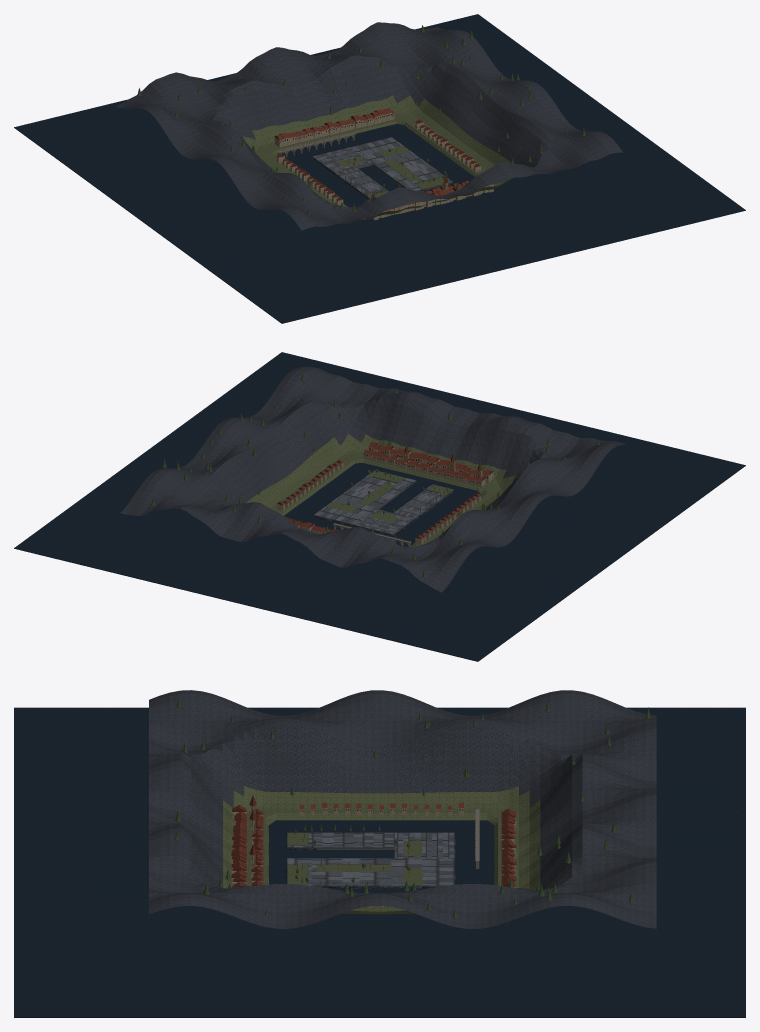
Rendered from Maribor_Backdrop.fbx.
3 views of the same model, one above another, from view 1: azimuth 30°, elevation 25°; view 2: azimuth 150°, elevation 25°; view 3: azimuth 270°, elevation 25° (orthographic). The views are drawn at different scales.
Visible parts, largest first — view 1: PL_Backdrop_City_117, PL_Backdrop_City_144, PL_Backdrop_City_104, PL_Backdrop_City_105, PL_Backdrop_City_106; view 2: PL_Backdrop_City_117, PL_Backdrop_City_144, PL_Backdrop_City_104, PL_Backdrop_City_105, PL_Backdrop_City_106; view 3: PL_Backdrop_City_117, PL_Backdrop_City_144, PL_Backdrop_City_104, PL_Backdrop_City_105, PL_Backdrop_City_106.
Boxes of the visible parts, bbox=[...] form: PL_Backdrop_City_117: bbox=[14, 14, 745, 323]; PL_Backdrop_City_144: bbox=[116, 22, 622, 230]; PL_Backdrop_City_104: bbox=[351, 137, 452, 191]; PL_Backdrop_City_105: bbox=[312, 147, 372, 172]; PL_Backdrop_City_106: bbox=[334, 167, 389, 199]; PL_Backdrop_City_117: bbox=[14, 352, 745, 661]; PL_Backdrop_City_144: bbox=[120, 366, 626, 592]; PL_Backdrop_City_104: bbox=[313, 470, 415, 525]; PL_Backdrop_City_105: bbox=[355, 509, 414, 535]; PL_Backdrop_City_106: bbox=[394, 484, 453, 518]; PL_Backdrop_City_117: bbox=[14, 707, 745, 1017]; PL_Backdrop_City_144: bbox=[149, 690, 656, 928]; PL_Backdrop_City_104: bbox=[287, 858, 454, 886]; PL_Backdrop_City_105: bbox=[394, 832, 454, 858]; PL_Backdrop_City_106: bbox=[287, 832, 394, 848].
Size of the model in its own units: 900 by 115 by 900.
